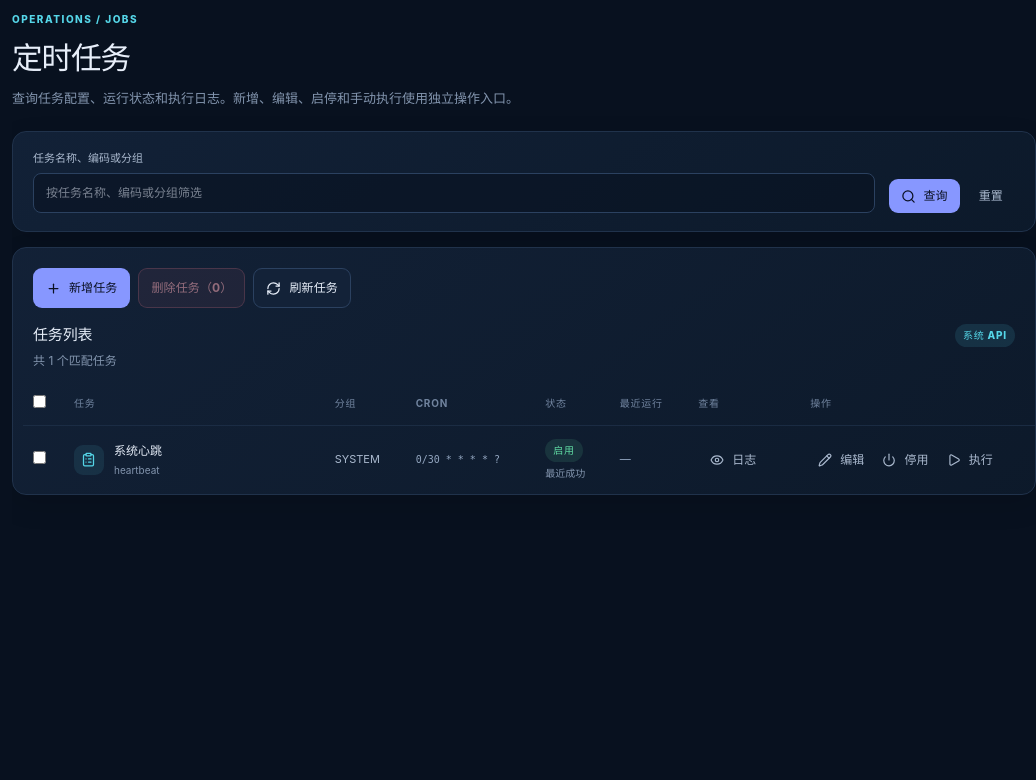
Test: JobsPage › 刷新任务失败时显示安全错误并保留旧列表
Expected: the text "系统心跳" is shown, [114, 442, 162, 460]
Click the button "刷新任务": x=302, y=288 [253, 268, 351, 308]
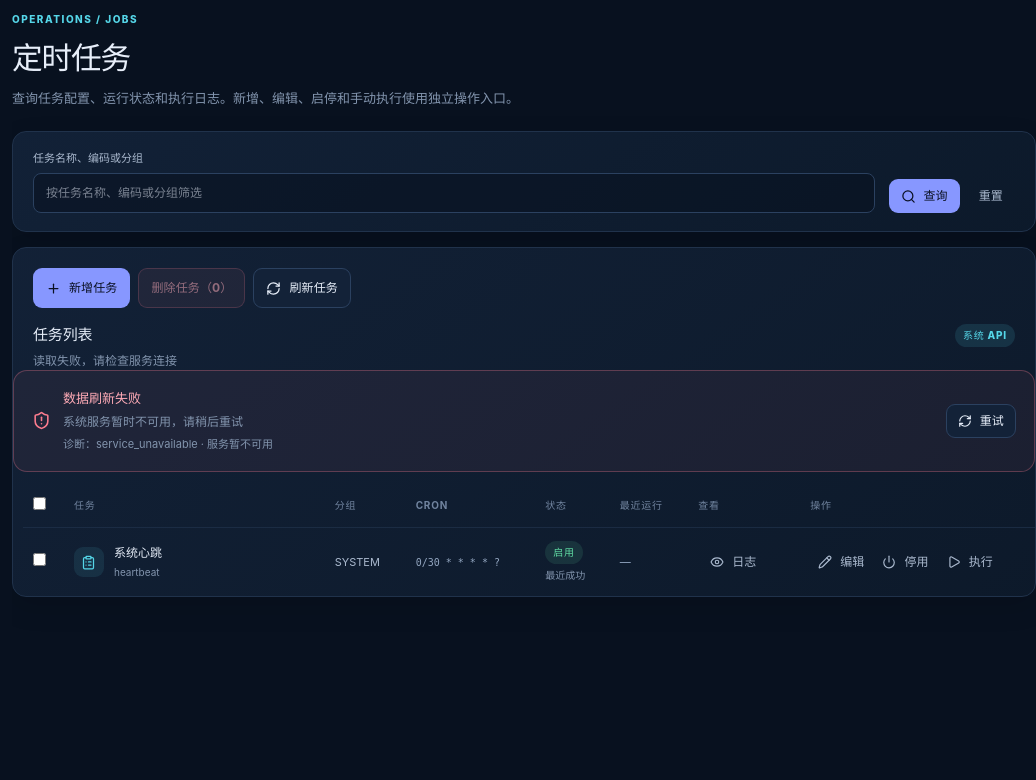
Expected: the text "系统心跳" is shown, [114, 544, 162, 562]
Expected: the text "数据刷新失败" is shown, [63, 390, 141, 406]
Expected: the text "系统服务暂时不可用，请稍后重试" is shown, [63, 414, 243, 429]
